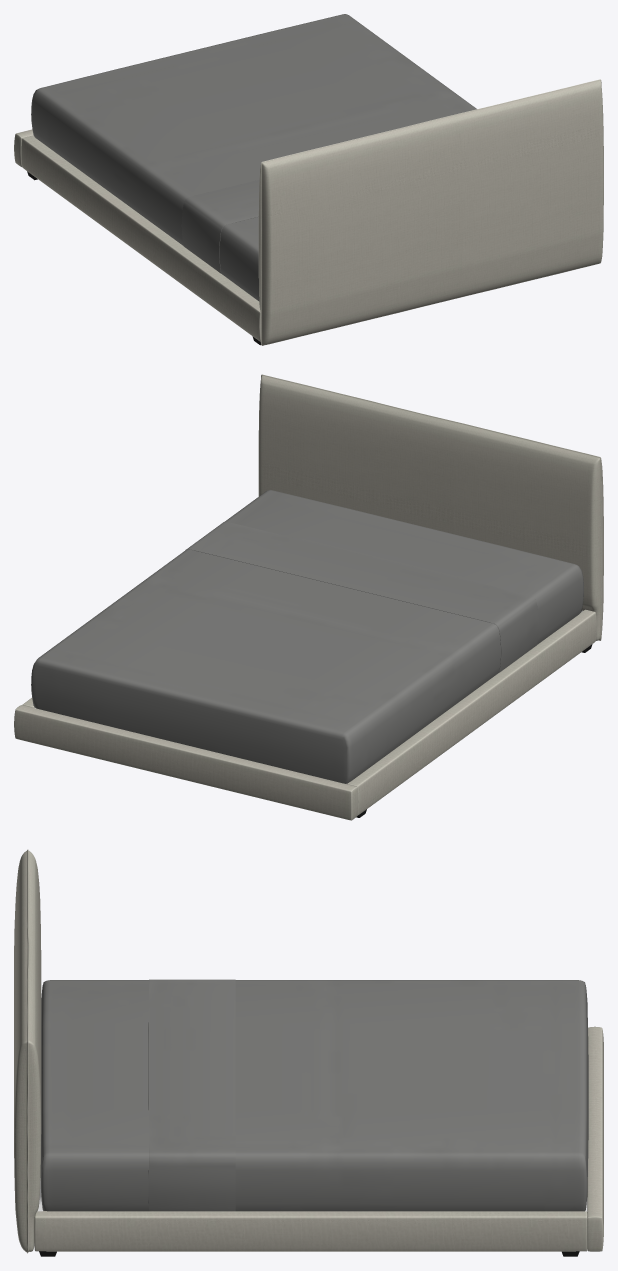
The model's file is facade_queen_bed_lindy_snow.glb.
The picture shows the model from 3 angles, top to bottom: view 1: azimuth 30°, elevation 25°; view 2: azimuth 150°, elevation 25°; view 3: azimuth 270°, elevation 25°; orthographic projection. The views are drawn at different scales.
Visible parts, largest first — view 1: _4968bdc_3b93_42dc_9645_24e3f1a6ed0e; view 2: _4968bdc_3b93_42dc_9645_24e3f1a6ed0e; view 3: _4968bdc_3b93_42dc_9645_24e3f1a6ed0e.
Boxes of the visible parts, bbox=[...] form: _4968bdc_3b93_42dc_9645_24e3f1a6ed0e: bbox=[14, 14, 603, 345]; _4968bdc_3b93_42dc_9645_24e3f1a6ed0e: bbox=[14, 374, 603, 820]; _4968bdc_3b93_42dc_9645_24e3f1a6ed0e: bbox=[14, 849, 603, 1256].
Bounding box in the file's own units: 168 × 89.54 × 217.
3 materials, 2 textured.
